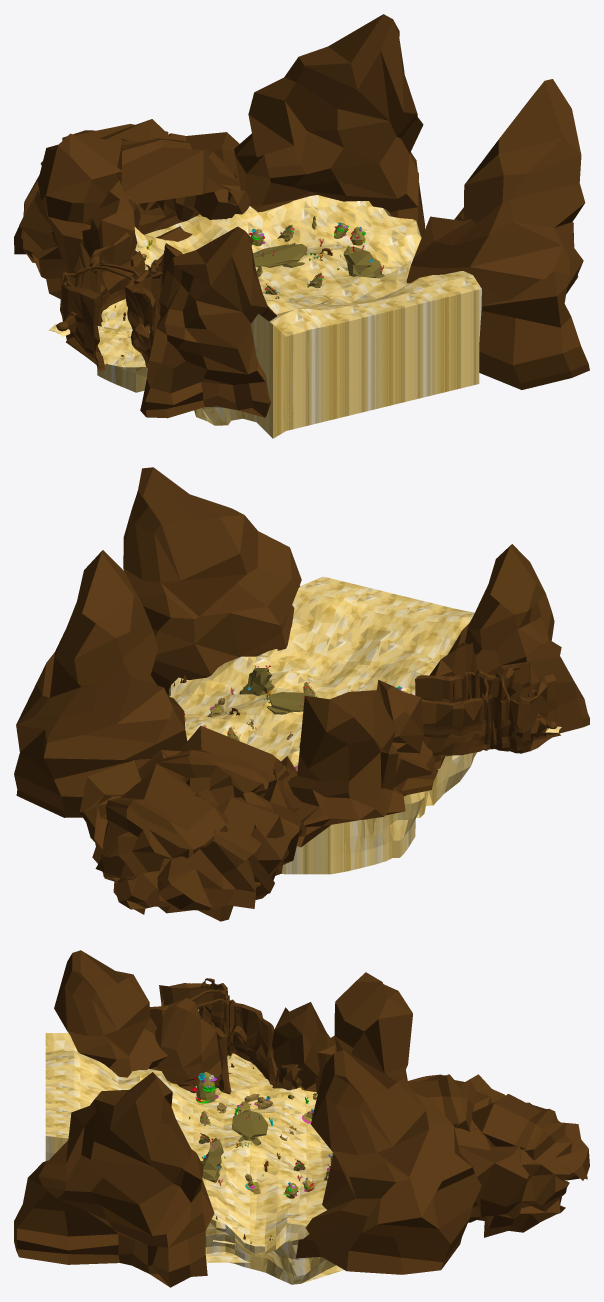
The model's file is reefAndCanyon05.fbx.
3 views of the same model, one above another, from view 1: azimuth 30°, elevation 25°; view 2: azimuth 150°, elevation 25°; view 3: azimuth 270°, elevation 25° (orthographic). The views are drawn at different scales.
Parts seen in each view (by area): view 1: canyon.042; view 2: canyon.042; view 3: canyon.042.
Part boxes in pixels (left/top/right/bottom): canyon.042: left=14, top=14, right=589, bottom=438; canyon.042: left=14, top=467, right=589, bottom=921; canyon.042: left=14, top=950, right=589, bottom=1287.
Bounding box in the file's own units: 590 × 308 × 657.
